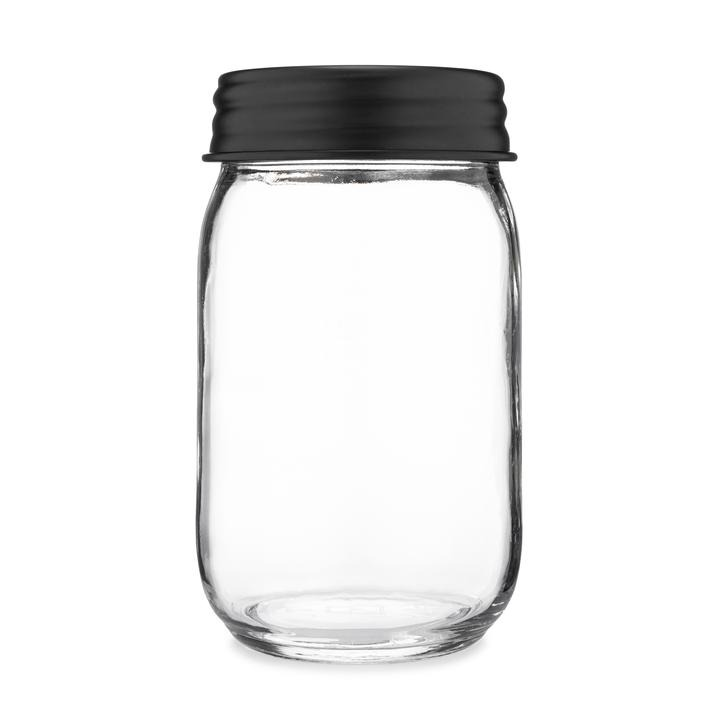container: (188, 61, 524, 662)
